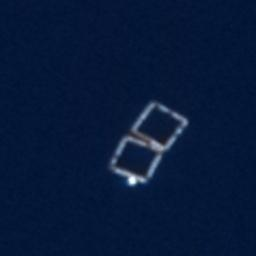square_solid: (103, 131, 169, 189), (128, 97, 193, 155)
